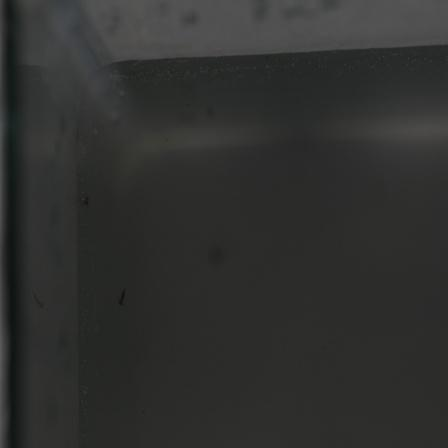Jentik-Nyamuk: (114, 279, 132, 312)
